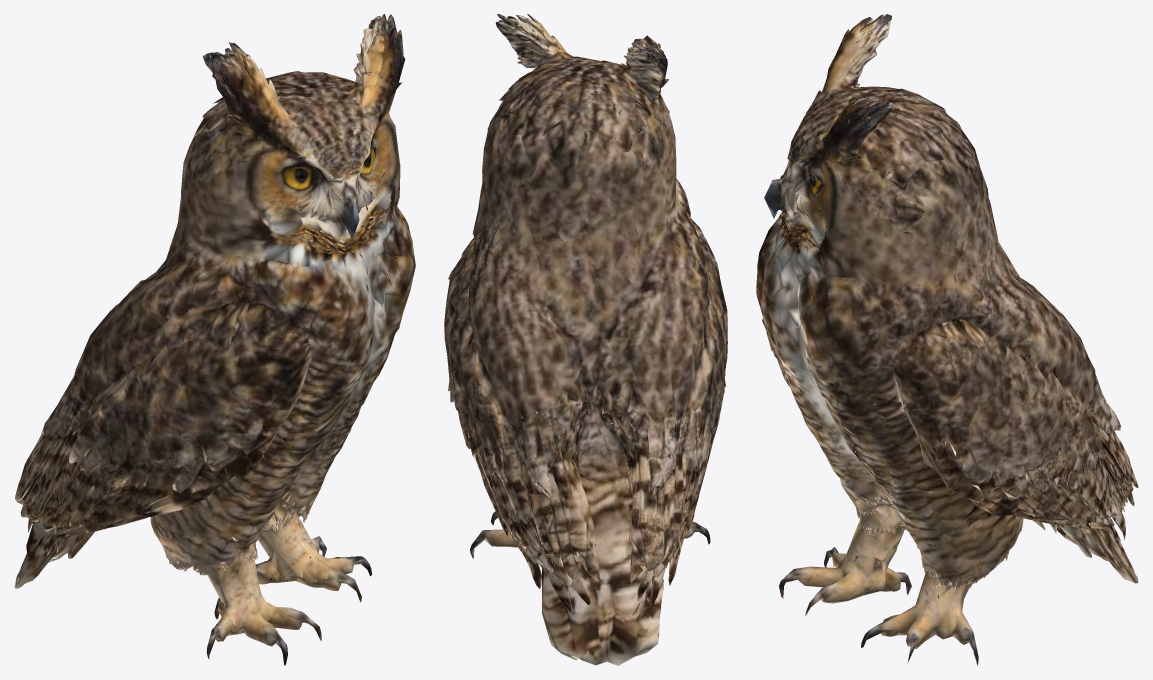
The model's file is owl.glb.
3 views of the same model, side by side, from view 1: azimuth 30°, elevation 25°; view 2: azimuth 150°, elevation 25°; view 3: azimuth 270°, elevation 25° (orthographic). The views are drawn at different scales.
Visible parts, largest first — view 1: owl; view 2: owl; view 3: owl.
Boxes of the visible parts, box(x1,y1,x2,y2) form: owl: box(14, 14, 415, 665); owl: box(444, 14, 727, 665); owl: box(756, 14, 1138, 665).
Size of the model in its own units: 0.2875 by 0.5498 by 0.3202.
1 material, 1 textured.
